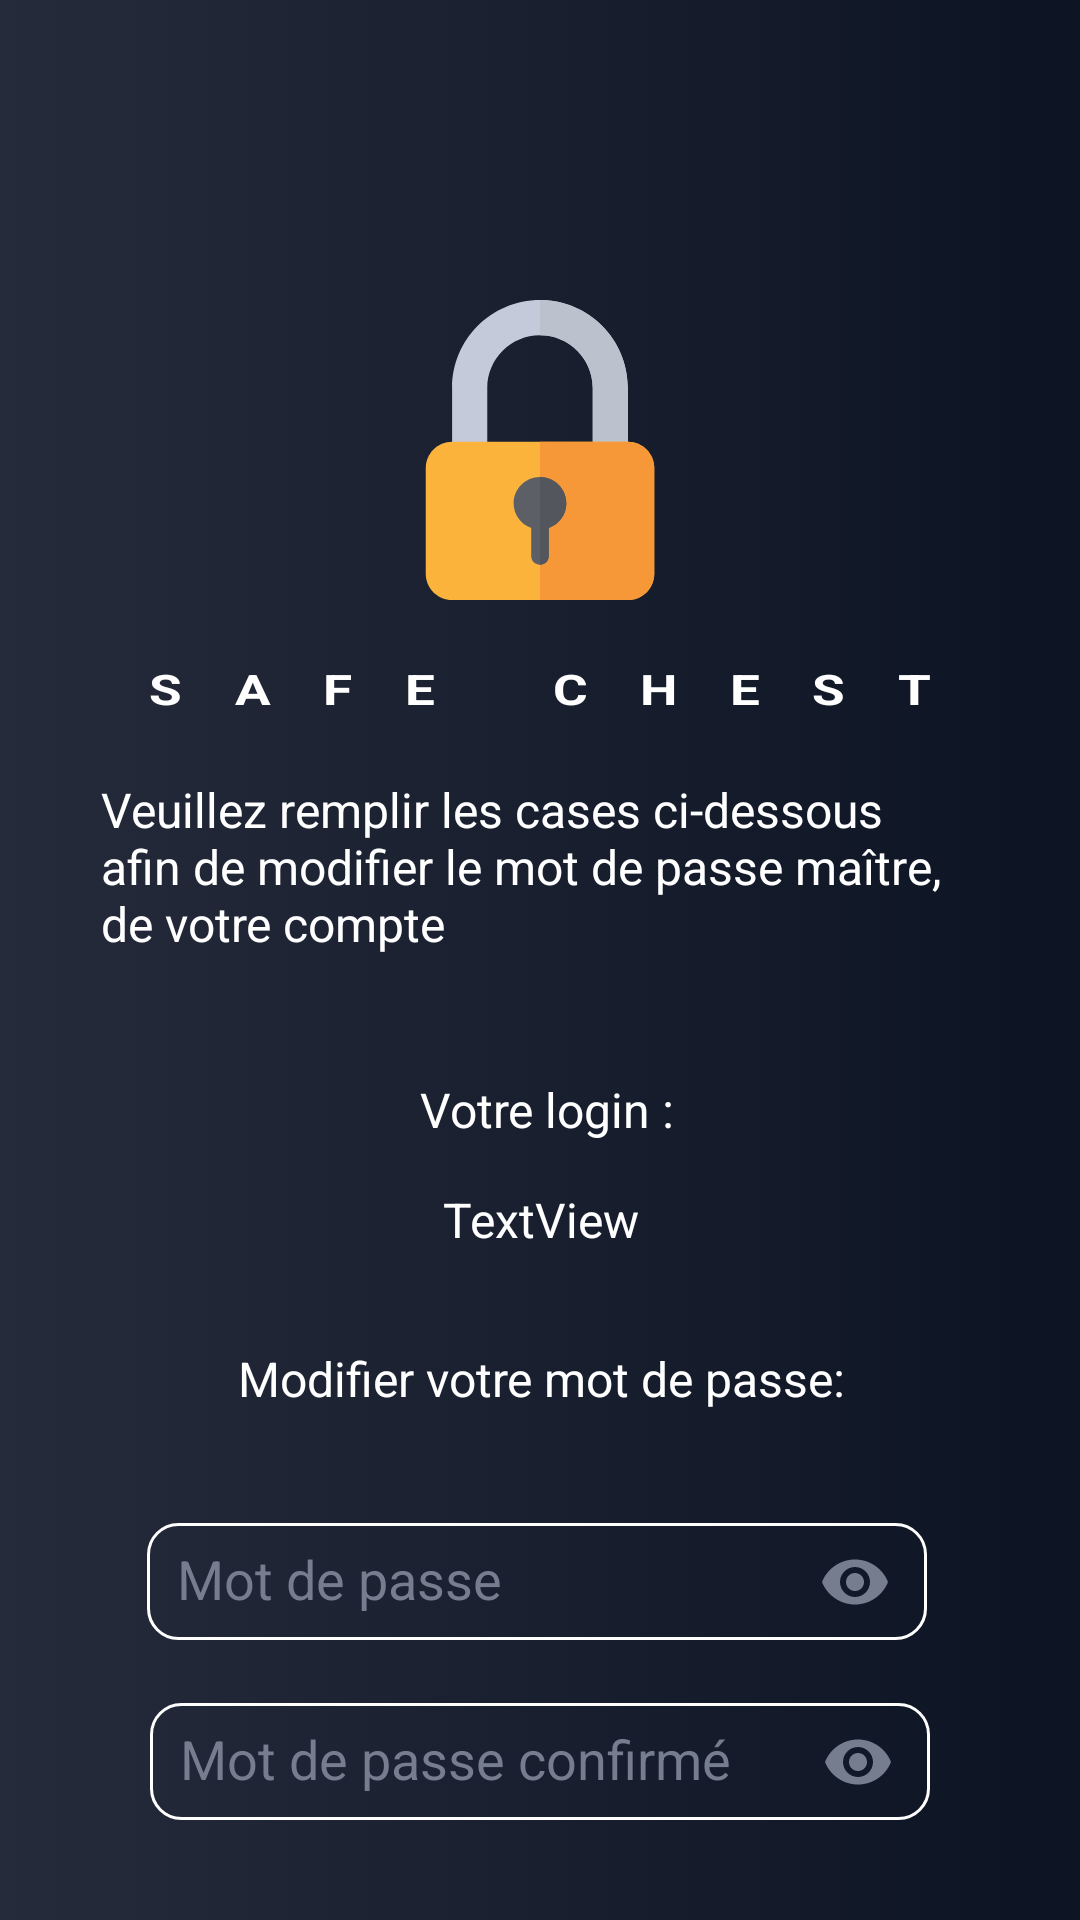

Screen size 1080 x 1920. Icon name, then its box in pixels as bbox(x1, y1, x2, y2):
padlock: bbox(425, 300, 655, 600)
